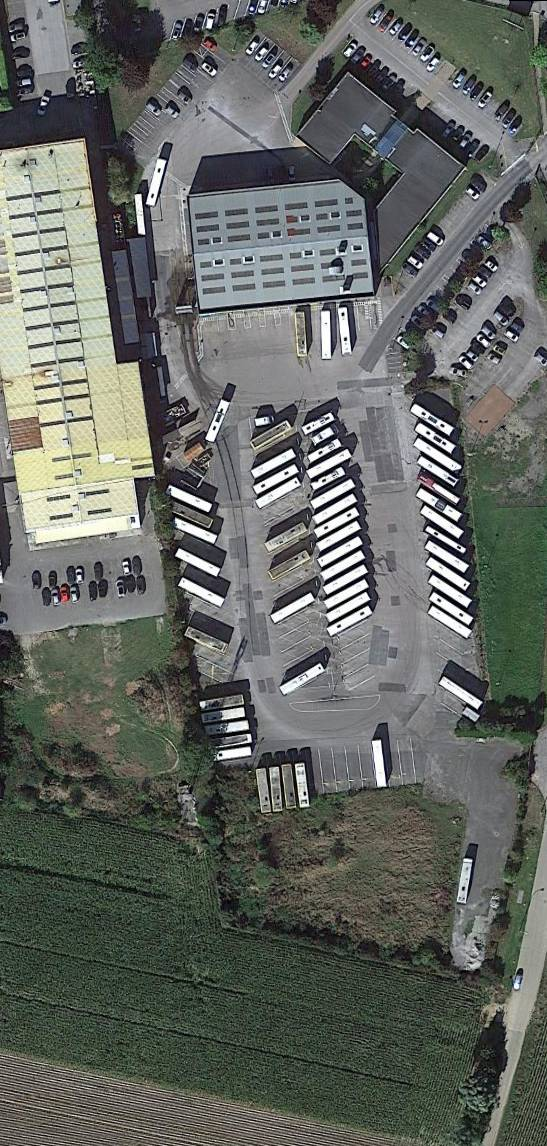large vehicle: (414, 438, 463, 475), (279, 662, 326, 696), (426, 557, 471, 592), (417, 488, 463, 522), (439, 676, 485, 710), (320, 549, 367, 582), (325, 591, 372, 624), (430, 592, 474, 627), (312, 493, 358, 526), (428, 606, 474, 639), (314, 506, 360, 539), (317, 536, 364, 568), (322, 564, 369, 596), (255, 477, 302, 509), (252, 464, 300, 495), (425, 541, 470, 574), (410, 403, 455, 436), (310, 478, 356, 510), (316, 520, 362, 552), (418, 472, 461, 506), (306, 449, 353, 480), (179, 577, 226, 608), (327, 606, 374, 637), (429, 575, 473, 608), (166, 499, 214, 529), (270, 593, 316, 624), (251, 448, 297, 479), (170, 516, 219, 545), (421, 506, 464, 539), (175, 548, 222, 578), (264, 522, 308, 554), (165, 484, 213, 513), (424, 524, 467, 556), (184, 626, 229, 656), (417, 456, 459, 488), (268, 549, 311, 580), (250, 420, 293, 451), (415, 423, 457, 454), (204, 399, 230, 443), (145, 159, 167, 207), (306, 438, 343, 464), (310, 466, 346, 492), (302, 411, 337, 436), (199, 694, 244, 713), (201, 707, 246, 725), (206, 720, 250, 737), (458, 858, 474, 904), (256, 769, 272, 814), (338, 307, 352, 358), (373, 741, 388, 788), (281, 766, 297, 809), (295, 763, 310, 808), (210, 734, 253, 749), (312, 423, 340, 446), (211, 747, 253, 762), (270, 768, 283, 813), (134, 193, 146, 237), (296, 313, 308, 357), (322, 312, 332, 360)
small vehicle: (490, 100, 511, 123), (467, 80, 487, 103), (399, 259, 420, 280), (396, 21, 416, 43), (403, 27, 422, 50), (507, 113, 525, 137), (35, 93, 53, 117), (349, 44, 368, 66), (500, 107, 517, 131), (411, 243, 432, 262), (462, 139, 481, 160), (174, 88, 195, 107), (418, 43, 437, 64), (368, 5, 386, 27), (380, 73, 398, 95), (199, 60, 219, 79), (425, 229, 445, 248), (469, 177, 489, 196), (439, 120, 458, 140), (479, 322, 498, 342), (409, 313, 429, 332), (364, 59, 383, 79), (179, 56, 200, 74), (424, 53, 442, 74), (463, 184, 482, 203), (144, 99, 163, 118), (161, 102, 180, 121), (244, 37, 262, 57), (267, 61, 285, 81), (477, 89, 495, 109), (475, 331, 493, 351), (411, 36, 428, 57), (461, 75, 477, 97), (451, 69, 467, 91), (476, 235, 495, 253), (491, 309, 510, 327), (394, 333, 413, 351), (454, 294, 472, 313), (465, 279, 484, 297), (470, 270, 488, 289), (458, 354, 475, 374), (260, 50, 277, 70), (169, 20, 185, 41), (378, 12, 394, 33), (375, 65, 391, 86), (252, 45, 270, 63), (473, 145, 491, 163), (417, 303, 435, 321), (405, 254, 424, 271), (502, 328, 521, 345), (342, 41, 359, 60), (278, 64, 294, 84), (448, 364, 469, 379), (181, 18, 195, 40), (202, 37, 220, 54), (450, 125, 467, 143), (464, 348, 482, 365), (388, 19, 405, 37), (419, 237, 438, 253), (458, 132, 474, 151), (253, 415, 276, 428), (483, 257, 500, 274), (425, 298, 443, 314), (357, 54, 373, 72), (204, 12, 218, 32), (115, 578, 128, 599), (477, 263, 493, 280), (191, 16, 205, 35), (7, 21, 26, 35), (486, 351, 502, 367), (217, 6, 228, 29), (510, 321, 526, 336), (9, 30, 27, 43), (50, 588, 62, 607), (97, 580, 109, 599), (12, 48, 30, 60), (492, 343, 507, 357), (132, 555, 142, 576), (65, 566, 76, 585), (69, 586, 80, 605), (18, 85, 35, 97), (16, 77, 33, 89), (59, 586, 70, 604), (31, 572, 42, 590), (126, 576, 137, 594), (88, 583, 98, 602), (42, 589, 52, 608), (16, 68, 34, 78), (137, 576, 146, 596), (121, 560, 132, 576), (94, 564, 104, 581), (75, 568, 84, 585), (49, 571, 57, 589)
